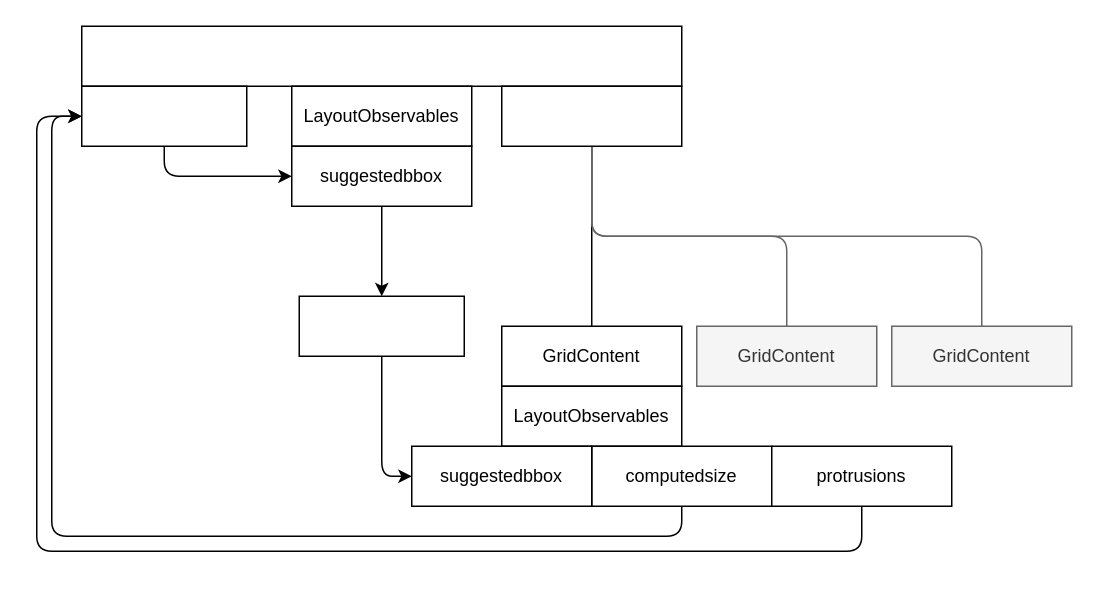
Some shapes in this 1098 by 590 pixel diagram are drawn without their labels. The shapes that lost their labels are listed below. From the top down, each one's centre as x and y in pixels, then its label:
At (x=381, y=55): "GridLayout".
At (x=163, y=115): "update!".
At (x=591, y=115): "content".
At (x=381, y=325): "align_to_bbox! (for c in content)".
